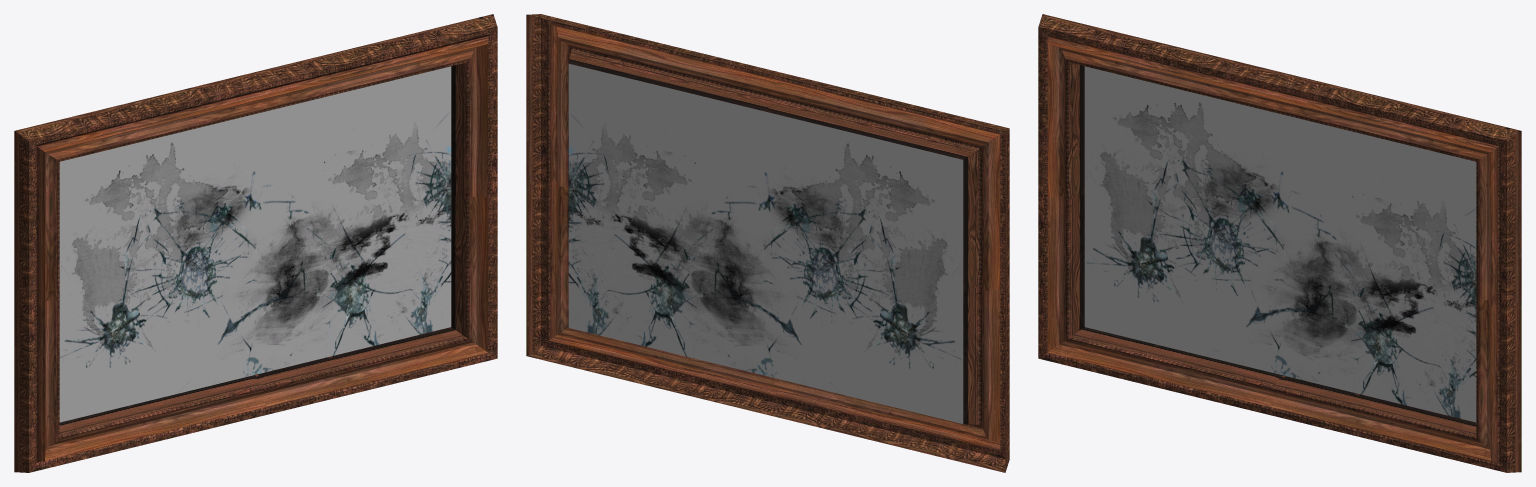
The model's file is mirror.FBX.
3 renders of one model, left to right at view 1: azimuth 30°, elevation 25°; view 2: azimuth 150°, elevation 25°; view 3: azimuth 330°, elevation 25°, orthographic.
Visible parts, largest first — view 1: Object001, Plane001; view 2: Object001, Plane001; view 3: Object001, Plane001.
Boxes of the visible parts, x1,y1,x2,y2 form: Object001: (59, 66, 451, 422); Plane001: (14, 14, 497, 472); Object001: (568, 63, 963, 423); Plane001: (526, 14, 1009, 472); Object001: (1084, 66, 1476, 422); Plane001: (1038, 14, 1521, 472).
Bounding box in the file's own units: 56.89 × 38.74 × 2.62.
Materials: 2 (2 with a texture image).
